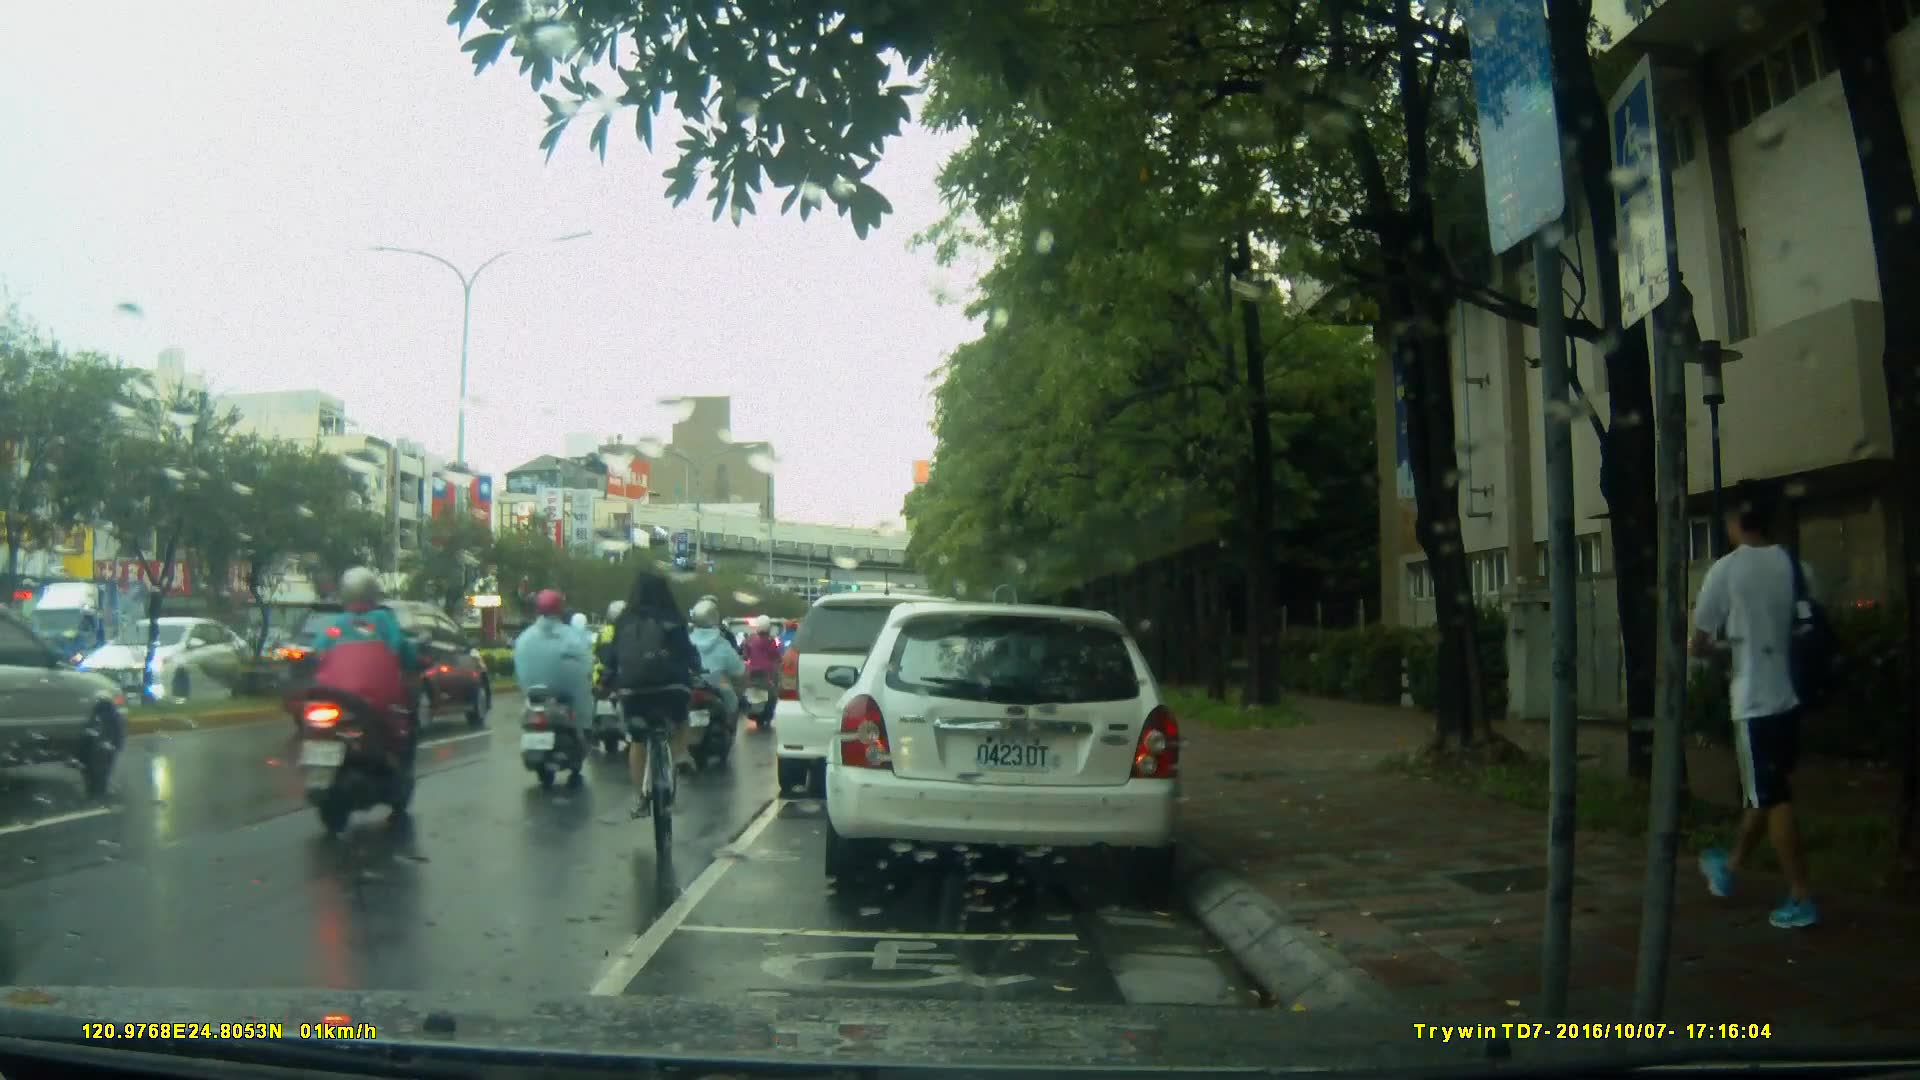pedestrian: (1697, 475, 1862, 951)
rider: (290, 570, 420, 837), (613, 561, 706, 845), (508, 589, 605, 792), (671, 598, 739, 755), (588, 599, 650, 758), (682, 593, 745, 749), (558, 612, 617, 732), (741, 621, 789, 733)
vehicle: (822, 604, 1188, 883), (774, 595, 995, 802), (272, 597, 495, 737), (20, 576, 161, 697), (86, 614, 269, 703)
